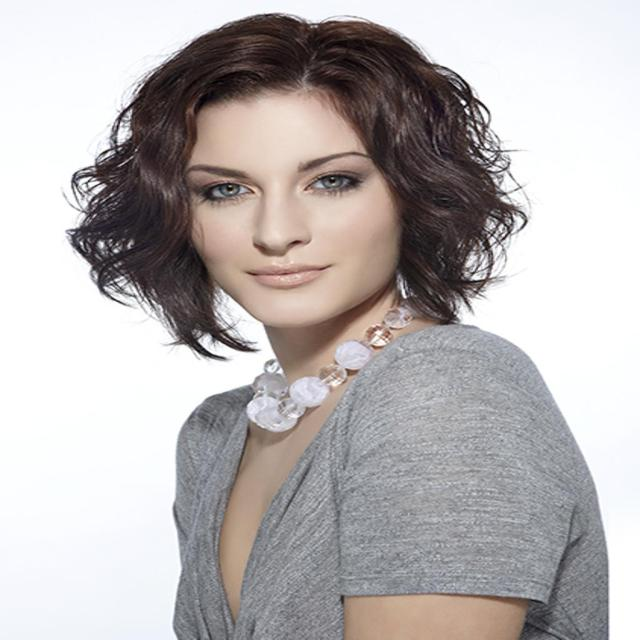Face: (139, 81, 415, 352)
